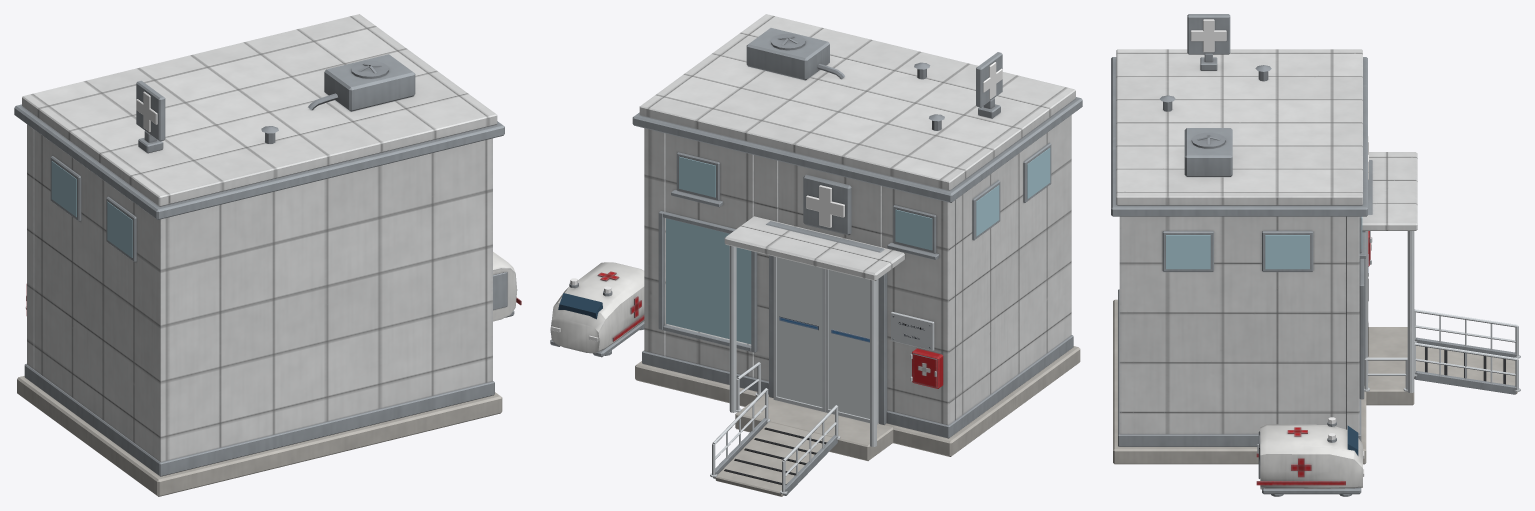
The model's file is hospital_clinica.fbx.
3 views of the same model, side by side, from view 1: azimuth 30°, elevation 25°; view 2: azimuth 150°, elevation 25°; view 3: azimuth 270°, elevation 25° (orthographic). The views are drawn at different scales.
Parts seen in each view (by area): view 1: hospital_clinica, hospital_clinica_cristal, hospital_clinica_ambulancia; view 2: hospital_clinica, hospital_clinica_cristal, hospital_clinica_puerta_izq_cristal, hospital_clinica_ambulancia, hospital_clinica_puerta_der_cristal, hospital_clinica_puerta_izq, hospital_clinica_cruz_neon, hospital_clinica_puerta_der, hospital_clinica_ambulancia_cristal; view 3: hospital_clinica, hospital_clinica_ambulancia, hospital_clinica_cristal, hospital_clinica_cruz_neon, hospital_clinica_puerta_izq.
Part boxes in pixels (x1,y1,x2,y2): hospital_clinica: (14,14,504,496); hospital_clinica_cristal: (51,161,132,257); hospital_clinica_ambulancia: (493,252,521,321); hospital_clinica: (632,14,1082,496); hospital_clinica_cristal: (666,148,1050,344); hospital_clinica_puerta_izq_cristal: (777,257,822,407); hospital_clinica_ambulancia: (550,262,644,357); hospital_clinica_puerta_der_cristal: (828,270,869,418); hospital_clinica_puerta_izq: (773,256,825,412); hospital_clinica_cruz_neon: (806,62,1002,227); hospital_clinica_puerta_der: (825,269,878,424); hospital_clinica_ambulancia_cristal: (558,293,602,319); hospital_clinica: (1111,14,1520,464); hospital_clinica_ambulancia: (1256,422,1362,496); hospital_clinica_cristal: (1166,217,1362,269); hospital_clinica_cruz_neon: (1190,19,1368,179); hospital_clinica_puerta_izq: (1365,231,1368,382).
Size of the model in its own units: 13.44 by 10.46 by 11.96.
8 materials, 1 textured.
